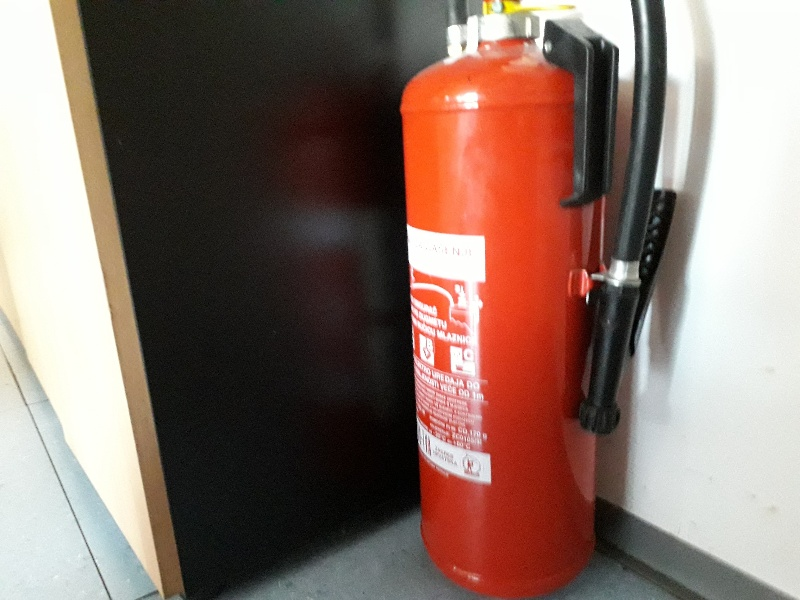vataparat: (401, 1, 676, 600)
